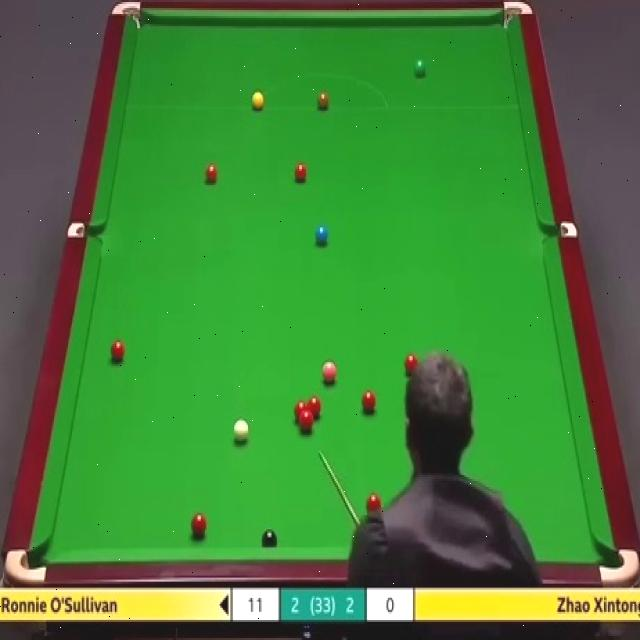black-ball: (261, 529, 278, 548)
blue-ball: (314, 223, 329, 247)
brown-ball: (316, 89, 330, 112)
green-ball: (412, 59, 427, 78)
pink-ball: (322, 357, 337, 384)
red-ball: (403, 351, 420, 380), (190, 512, 208, 538), (109, 338, 126, 365), (365, 492, 382, 518), (360, 389, 376, 415), (292, 160, 308, 183), (308, 396, 322, 421), (294, 400, 308, 421), (205, 163, 218, 184), (300, 412, 313, 432)
white-ball: (232, 416, 250, 449)
yellow-ball: (251, 90, 264, 110)
